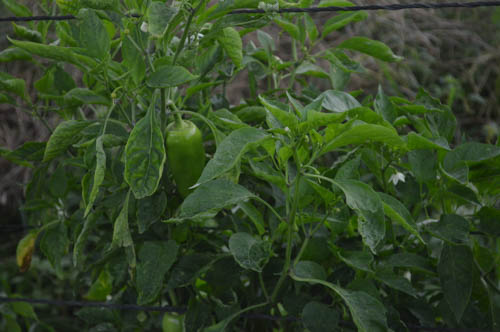ChiliPepper: (167, 125, 205, 191)
